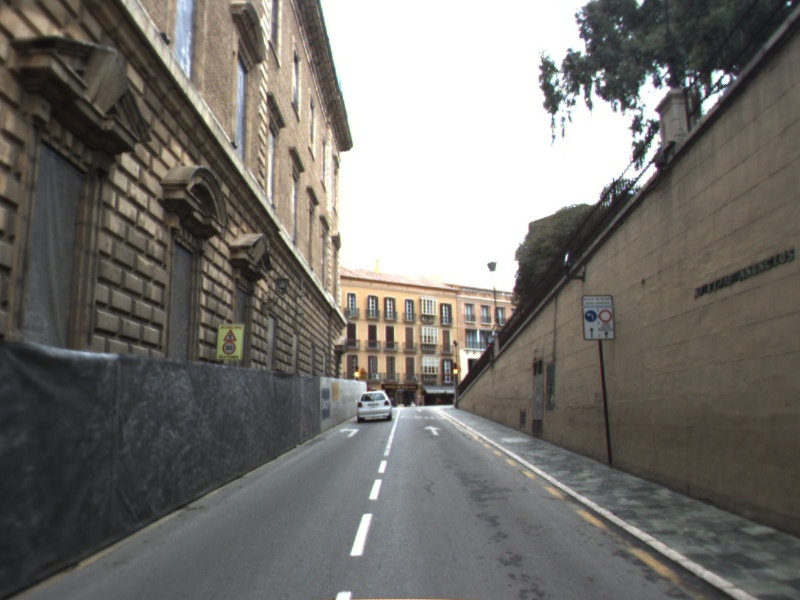LEFT: (338, 425, 361, 440)
STRAIGHT: (421, 423, 444, 438)
